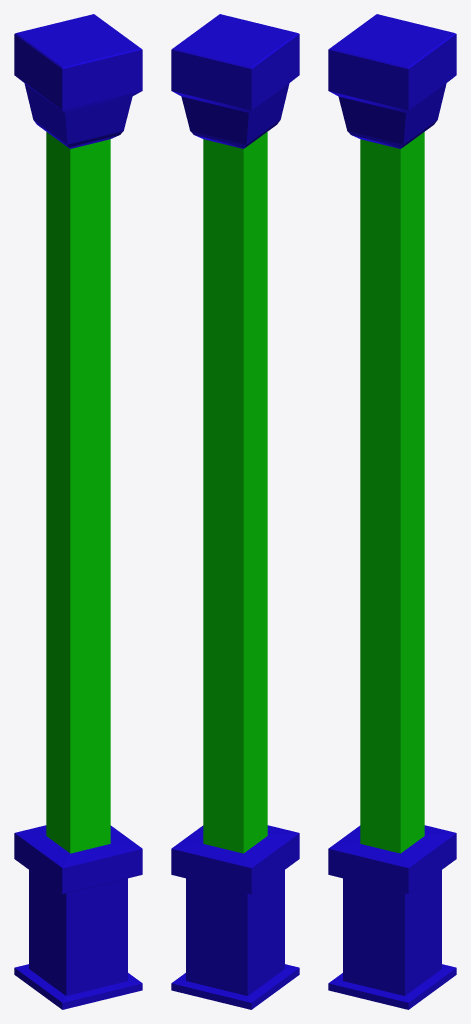
Rendered from C_TallPillar.fbx.
3 views of the same model, side by side, from view 1: azimuth 30°, elevation 25°; view 2: azimuth 150°, elevation 25°; view 3: azimuth 330°, elevation 25° (orthographic).
Visible parts, largest first — view 1: C_TallPillar; view 2: C_TallPillar; view 3: C_TallPillar.
Part boxes in pixels (<box>): C_TallPillar: <box>14,14,142,1009</box>; C_TallPillar: <box>171,14,299,1009</box>; C_TallPillar: <box>328,14,456,1009</box>.
Bounding box in the file's own units: 27.65 × 310 × 28.7.
